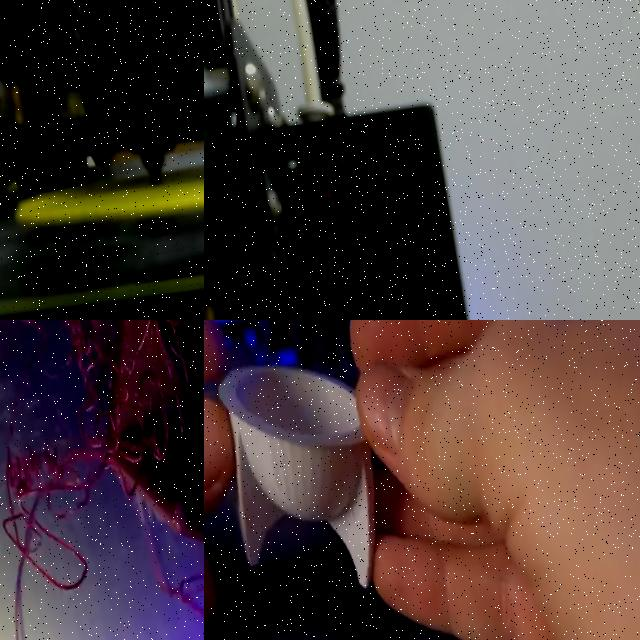spaghetti: (0, 320, 204, 609), (156, 532, 204, 640)
